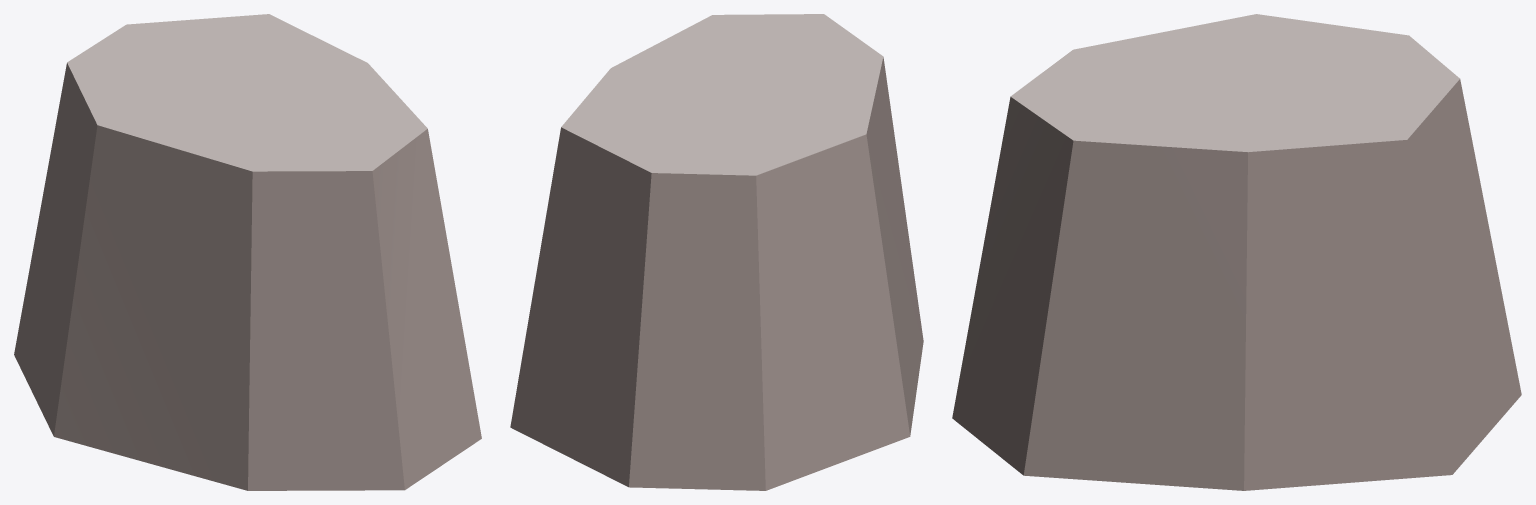
File: shitou_003.FBX
3 renders of one model, left to right at view 1: azimuth 30°, elevation 25°; view 2: azimuth 150°, elevation 25°; view 3: azimuth 270°, elevation 25°, orthographic. The views are drawn at different scales.
Parts seen in each view (by area): view 1: shitou_003; view 2: shitou_003; view 3: shitou_003.
Part boxes in pixels (left/top/right/bottom): shitou_003: left=14, top=14, right=481, bottom=490; shitou_003: left=510, top=14, right=923, bottom=490; shitou_003: left=952, top=14, right=1521, bottom=490.
Bounding box in the file's own units: 553 × 456 × 737.
